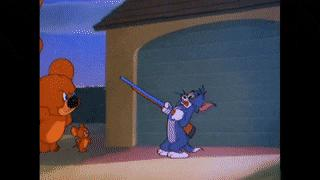jerry: (70, 122, 95, 154)
